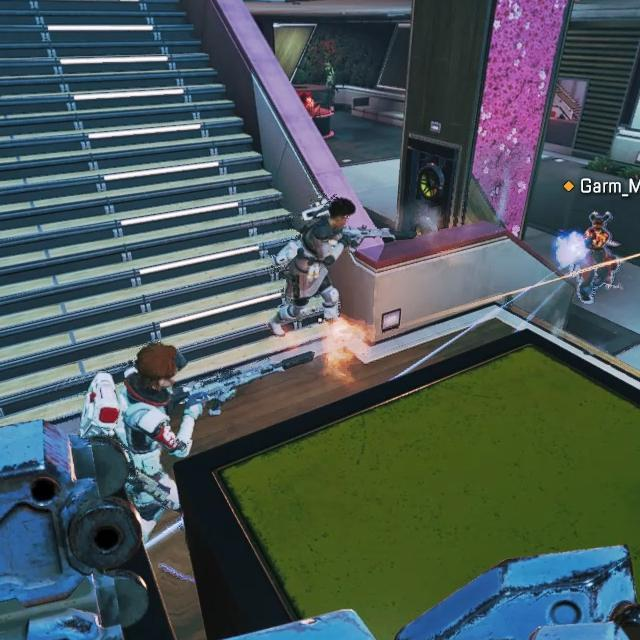avatar: (78, 339, 209, 546), (266, 196, 356, 340), (573, 209, 620, 309)
